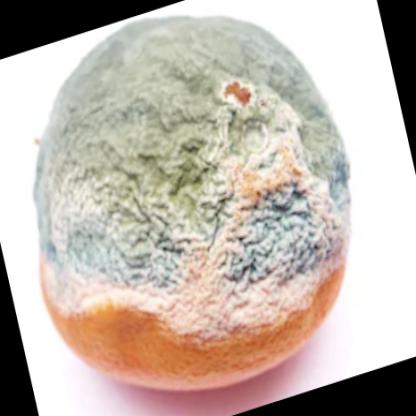rotten: (38, 15, 352, 391)
